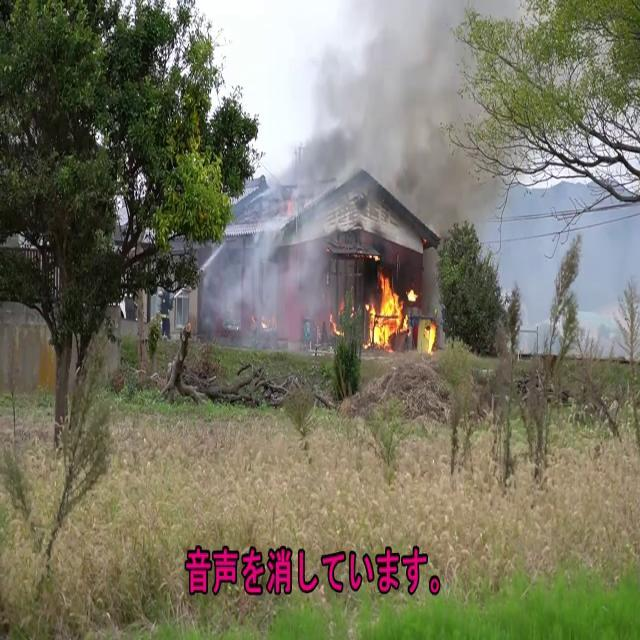Fire: (362, 264, 417, 349), (418, 315, 439, 355)
Smoke: (268, 0, 494, 250)
